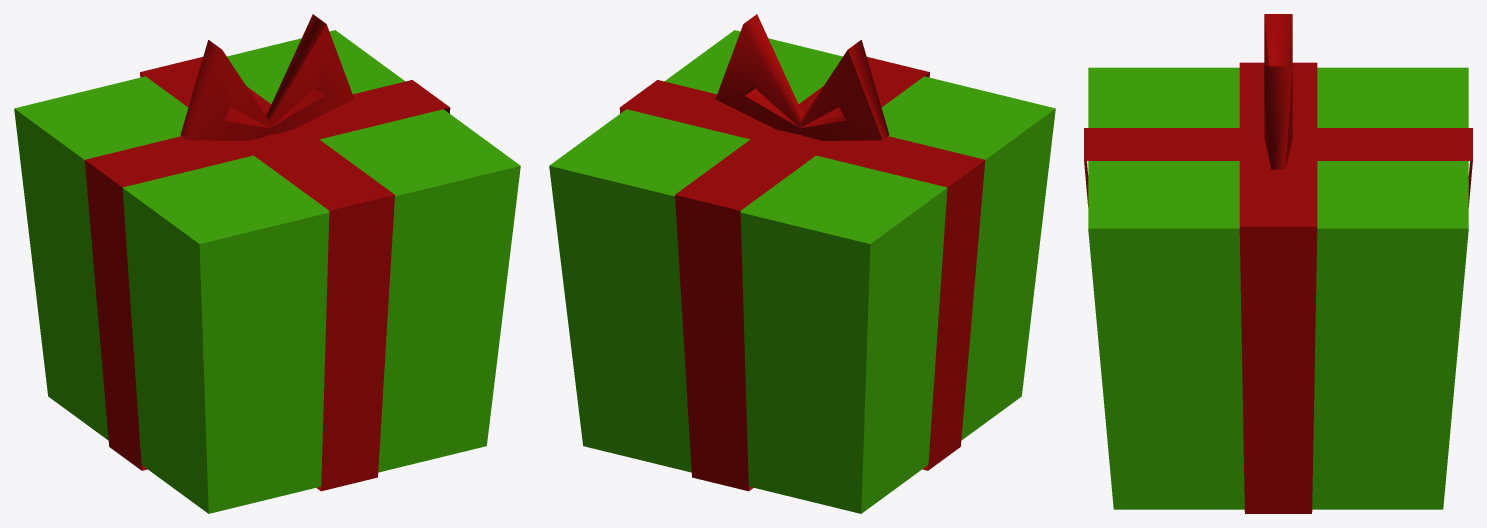
Rendered from parcel.fbx.
3 renders of one model, left to right at view 1: azimuth 30°, elevation 25°; view 2: azimuth 150°, elevation 25°; view 3: azimuth 270°, elevation 25°, orthographic. The views are drawn at different scales.
Visible parts, largest first — view 1: parcel; view 2: parcel; view 3: parcel.
Part boxes in pixels (x1=…): parcel: x1=14, y1=14, x2=520, y2=513; parcel: x1=549, y1=14, x2=1055, y2=513; parcel: x1=1084, y1=14, x2=1472, y2=513.
Bounding box in the file's own units: 115 × 131 × 115.
